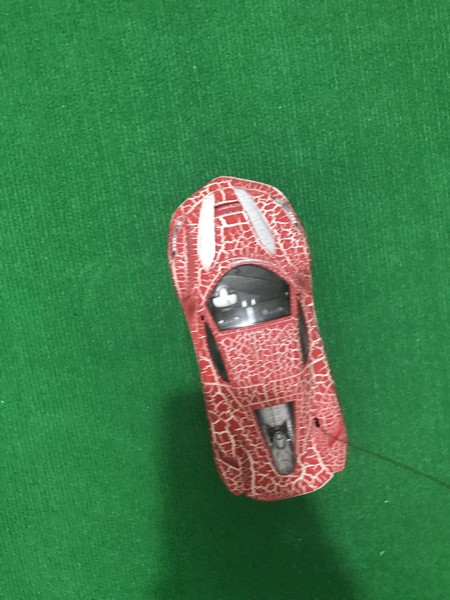RC: (163, 171, 350, 504)
